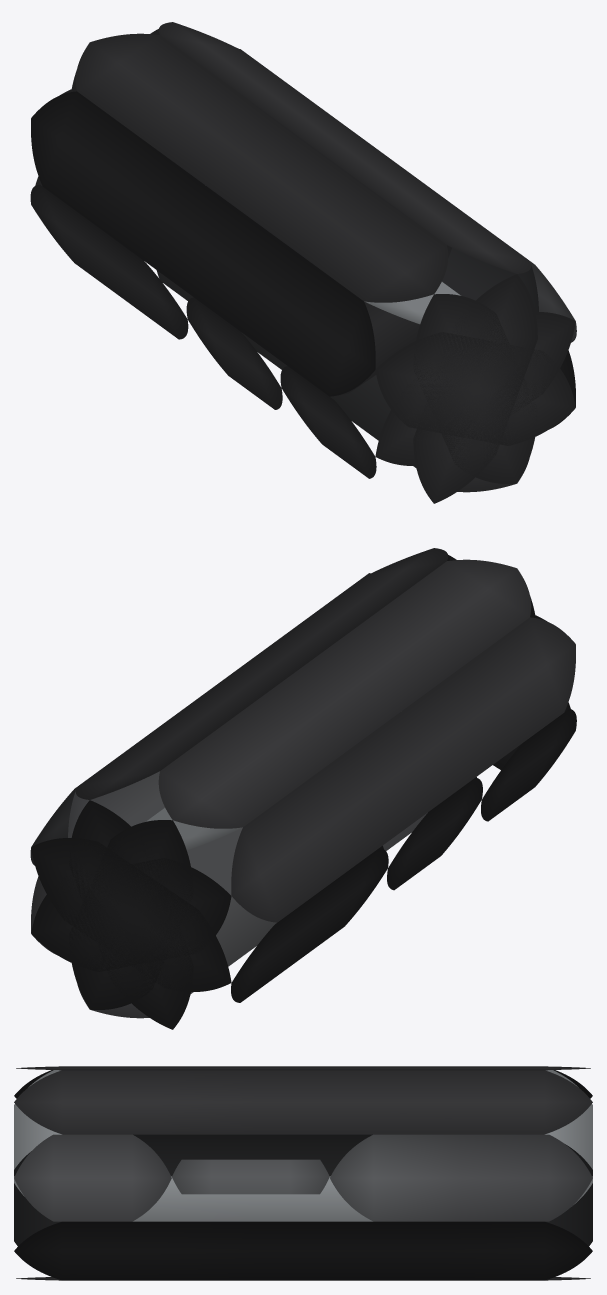
Rendered from udp_9_bolt.fbx.
3 views of the same model, one above another, from view 1: azimuth 30°, elevation 25°; view 2: azimuth 150°, elevation 25°; view 3: azimuth 270°, elevation 25° (orthographic). The views are drawn at different scales.
Visible parts, largest first — view 1: octagon_2, octagon_3, octagon_4, octagon_5, octagon_1, octagon; view 2: octagon_2, octagon_3, octagon_4, octagon_1, octagon_5, octagon; view 3: octagon_4, octagon_2, octagon_1, octagon_5, octagon, octagon_3.
Part boxes in pixels (x1=…): octagon_2: x1=31, y1=87, x2=575, y2=445; octagon_3: x1=71, y1=33, x2=536, y2=492; octagon_4: x1=150, y1=22, x2=538, y2=503; octagon_5: x1=280, y1=245, x2=576, y2=478; octagon_1: x1=30, y1=49, x2=241, y2=339; octagon: x1=186, y1=297, x2=282, y2=409; octagon_2: x1=31, y1=613, x2=575, y2=971; octagon_3: x1=69, y1=559, x2=535, y2=1018; octagon_4: x1=68, y1=548, x2=521, y2=1029; octagon_1: x1=30, y1=787, x2=388, y2=1002; octagon_5: x1=365, y1=573, x2=576, y2=821; octagon: x1=387, y1=777, x2=482, y2=890; octagon_4: x1=14, y1=1070, x2=592, y2=1245; octagon_2: x1=14, y1=1070, x2=592, y2=1280; octagon_1: x1=330, y1=1134, x2=592, y2=1221; octagon_5: x1=14, y1=1134, x2=171, y2=1221; octagon: x1=172, y1=1159, x2=329, y2=1194; octagon_3: x1=16, y1=1066, x2=590, y2=1280.
Bounding box in the file's own units: 6.76 × 6.76 × 17.19.
1 material, 1 textured.
